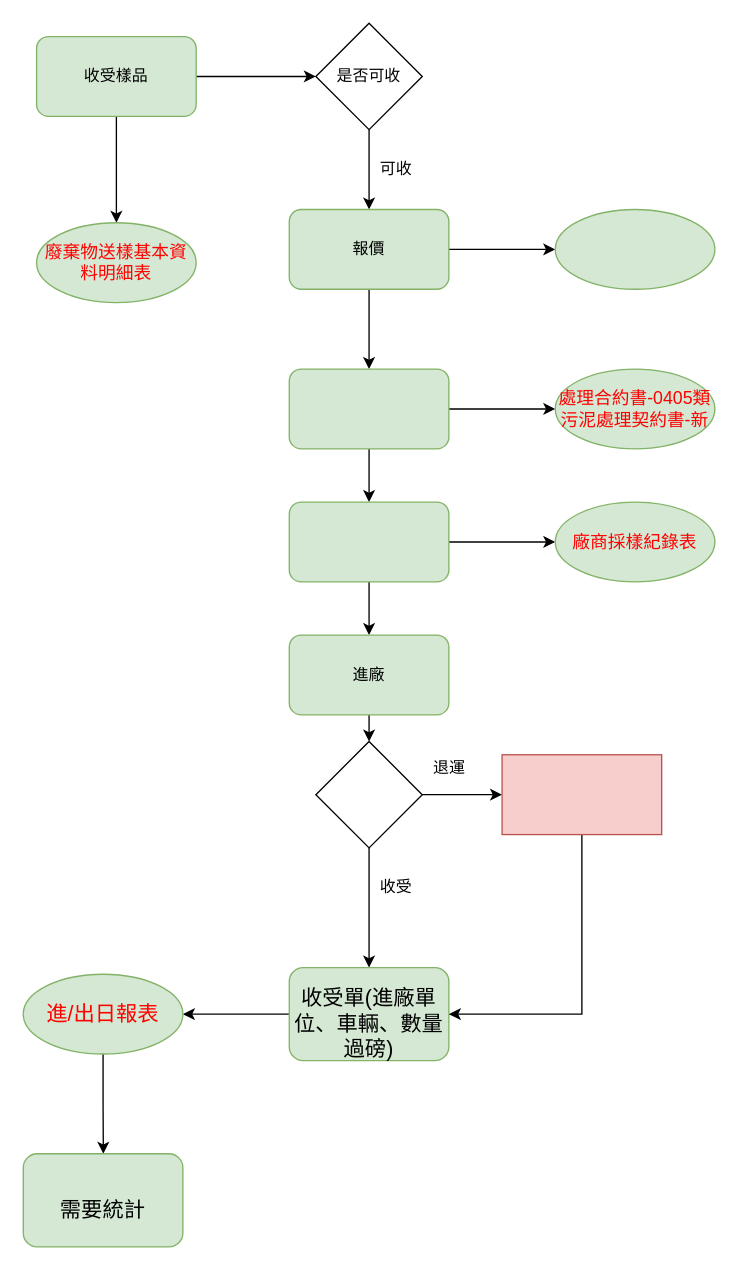
The diagram is 738 pixels wide and 1270 high, and some of its shapes have lost their labels. Each missing label, with the centre of its shape:
"合約" goes at pixel 368 408.
"報價單樣版" goes at pixel 634 248.
"抽驗" goes at pixel 368 794.
"採樣" goes at pixel 368 541.
"紀錄原因、照片" goes at pixel 581 794.
